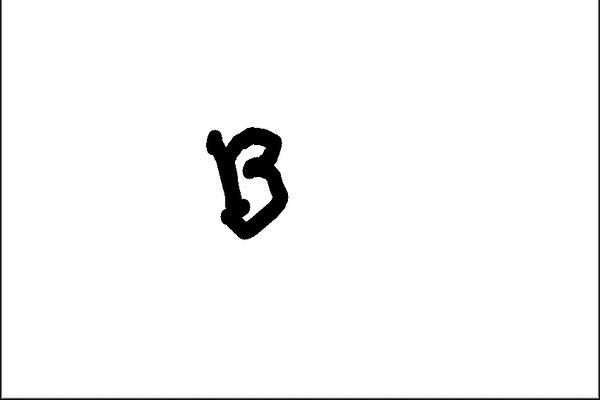B: (194, 117, 302, 243)
